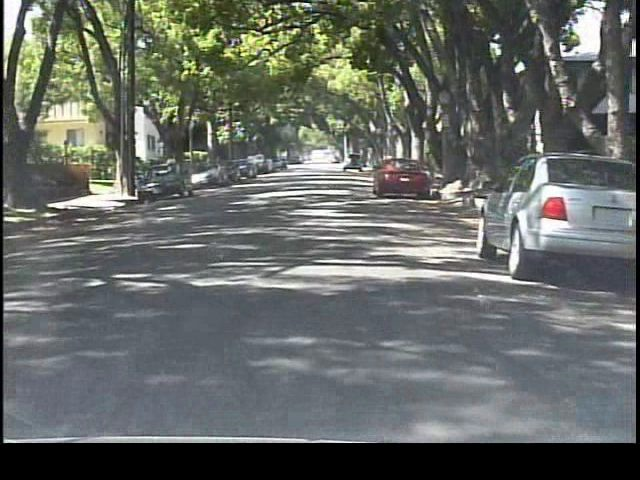person: (162, 153, 182, 189)
